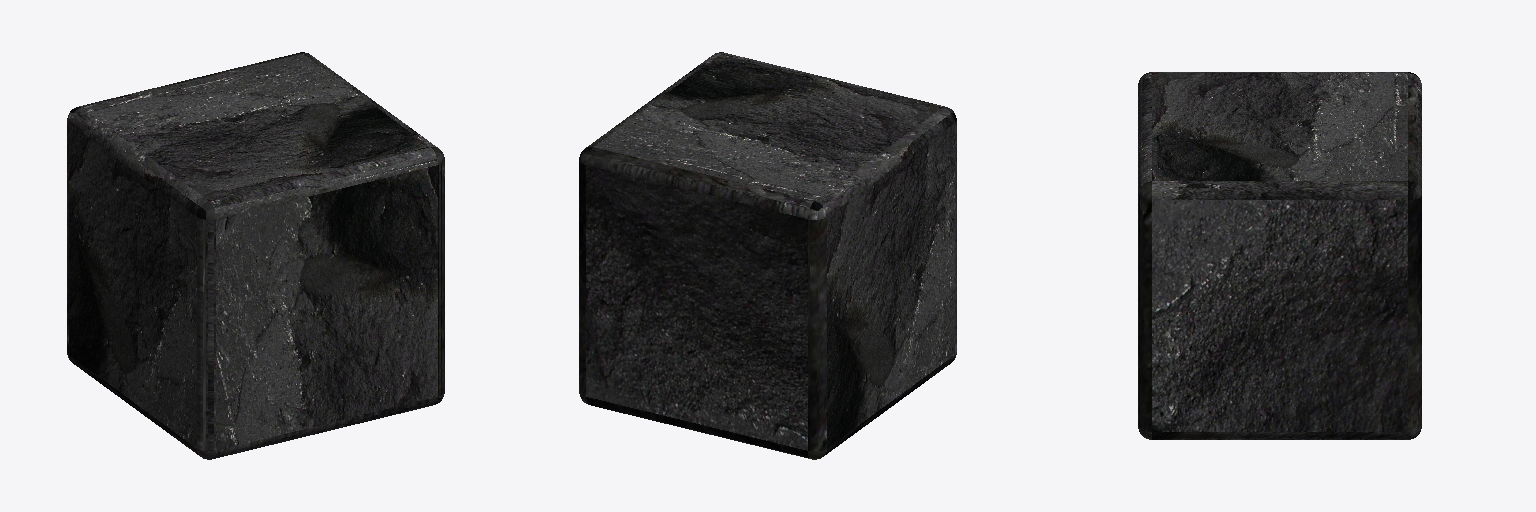
3 views of the same model, side by side, from view 1: azimuth 30°, elevation 25°; view 2: azimuth 150°, elevation 25°; view 3: azimuth 270°, elevation 25° (orthographic).
Parts seen in each view (by area): view 1: Cube; view 2: Cube; view 3: Cube.
Part boxes in pixels (left/top/right/bottom): Cube: left=67, top=52, right=444, bottom=459; Cube: left=579, top=52, right=956, bottom=459; Cube: left=1138, top=72, right=1421, bottom=439.
Bounding box in the file's own units: 2 × 2 × 2.
1 materials, 1 textured.